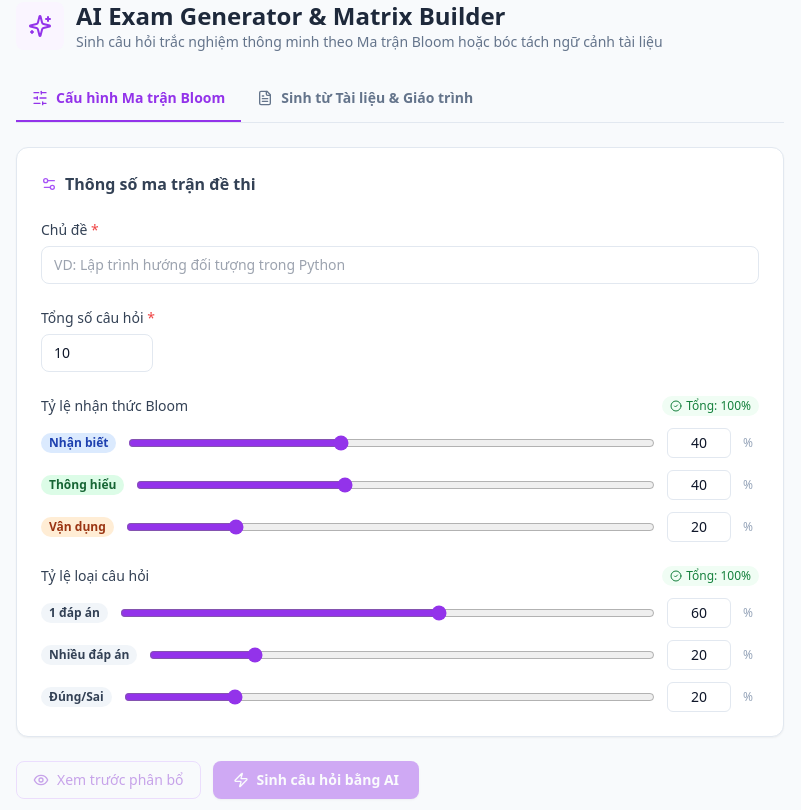
it: AiGenPage — Document Context Tab (Issue #33) › toggles advanced sliding window chunking configuration
The image size is (801, 810).
Click the button "Sinh từ Tài liệu & Giáo trình" at (365, 99), box [241,76,489,122]
(page scrolled)
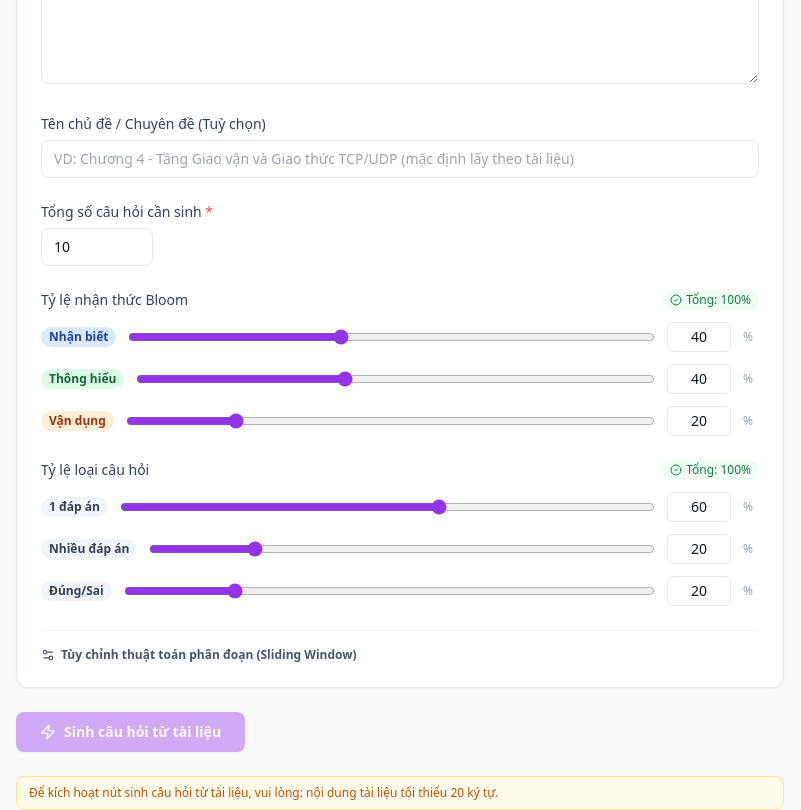
Click the button "Tùy chỉnh thuật toán phân đoạn (Sliding Window)" at (199, 655), box [41,647,357,663]
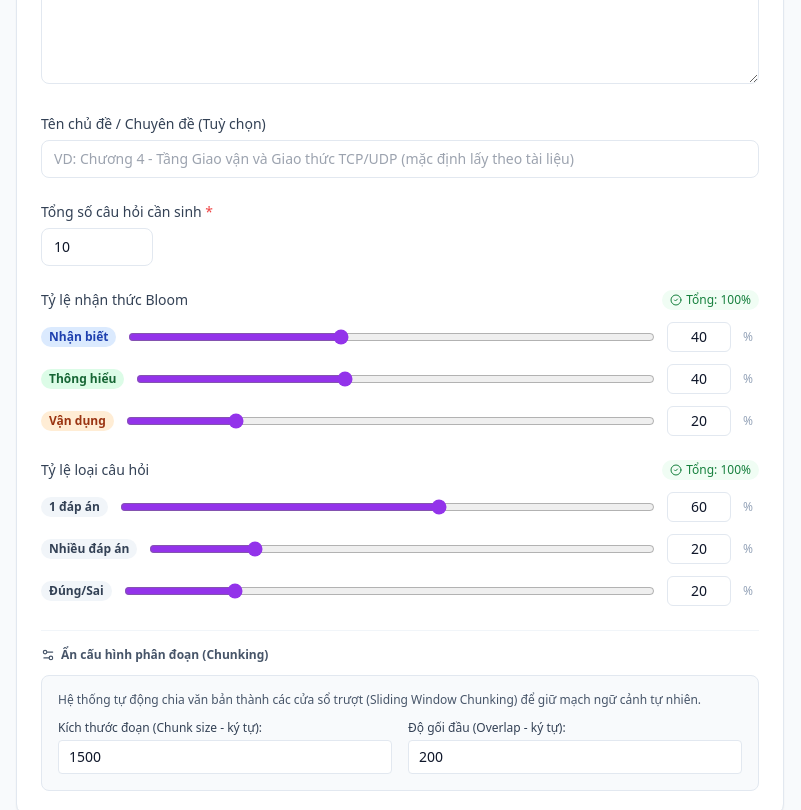
Expected: the text "Kích thước đoạn (Chunk size - ký tự):" is shown, [58,719,262,736]
Expected: the text "Độ gối đầu (Overlap - ký tự):" is shown, [408,719,566,736]
